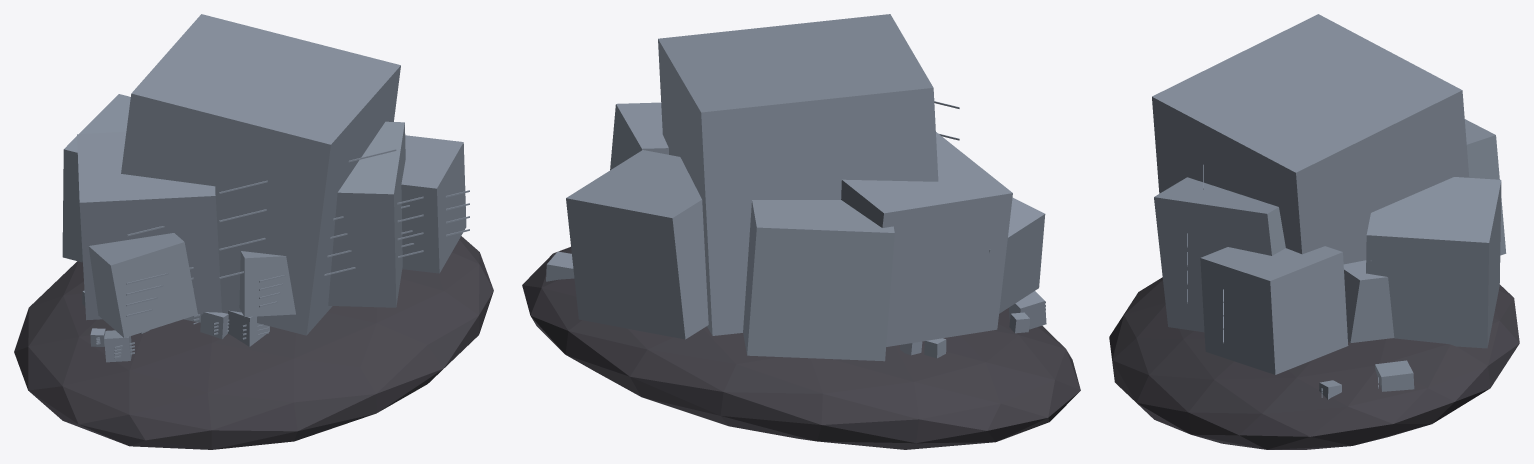
The model's file is galena.glb.
3 views of the same model, side by side, from view 1: azimuth 30°, elevation 25°; view 2: azimuth 150°, elevation 25°; view 3: azimuth 270°, elevation 25° (orthographic). The views are drawn at different scales.
Parts seen in each view (by area): view 1: Galena; view 2: Galena; view 3: Galena.
Part boxes in pixels (x1,y1,x2,y2): Galena: (14,14,493,449); Galena: (522,14,1080,449); Galena: (1109,14,1519,449).
Bounding box in the file's own units: 3.96 × 2.65 × 3.03.
